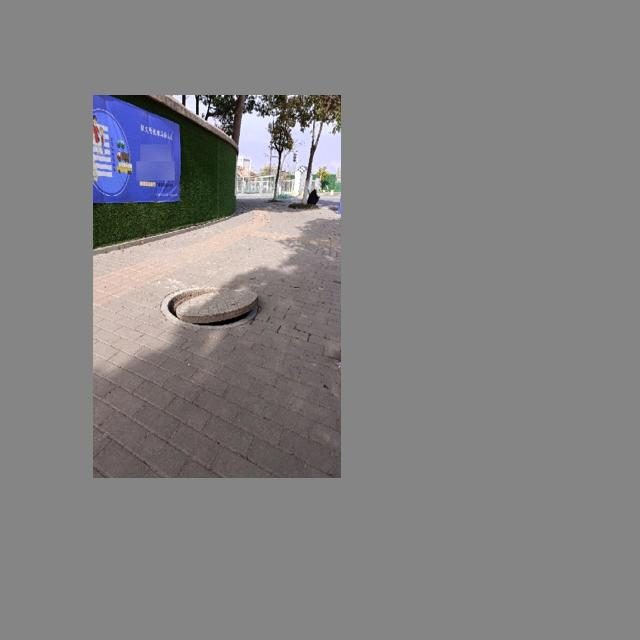uncovered: (160, 288, 259, 329)
